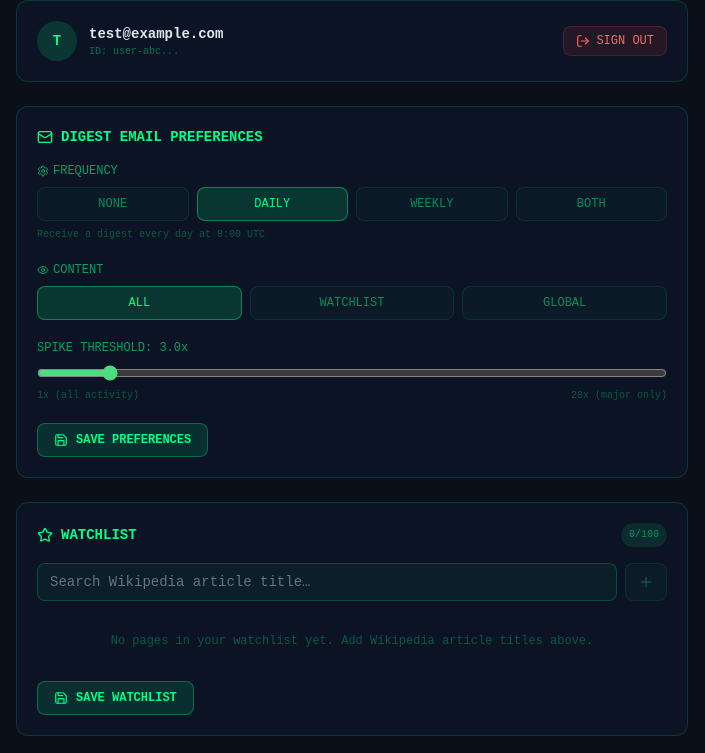
Scenario: SettingsPanel – watchlist autocomplete › hides dropdown when input is cleared after results were shown
The image size is (705, 753).
In the field with placeholder "Search Wikipedia article title…": (327, 582) [37, 563, 617, 601], type "Bit"
Wait 300 ms
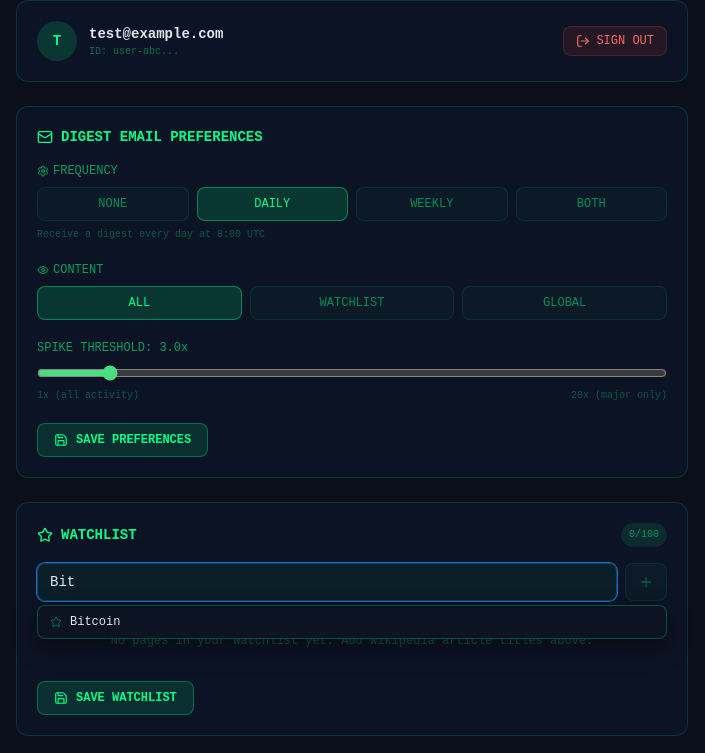
Result: the text "Bitcoin" is shown at [70, 614, 120, 630]
Clear the field with placeholder "Search Wikipedia article title…": (327, 582) [37, 563, 617, 601]
Wait 300 ms
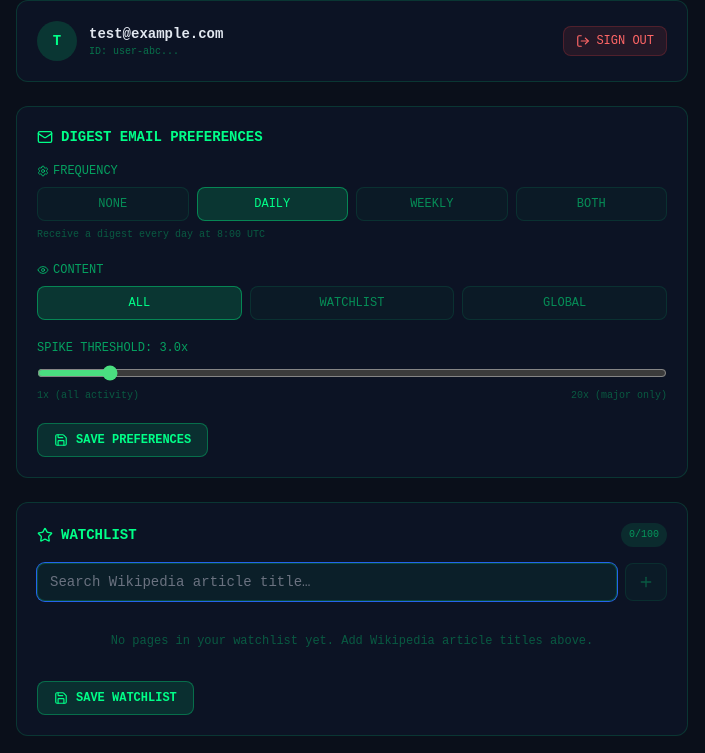
Result: the text "Bitcoin" is gone
